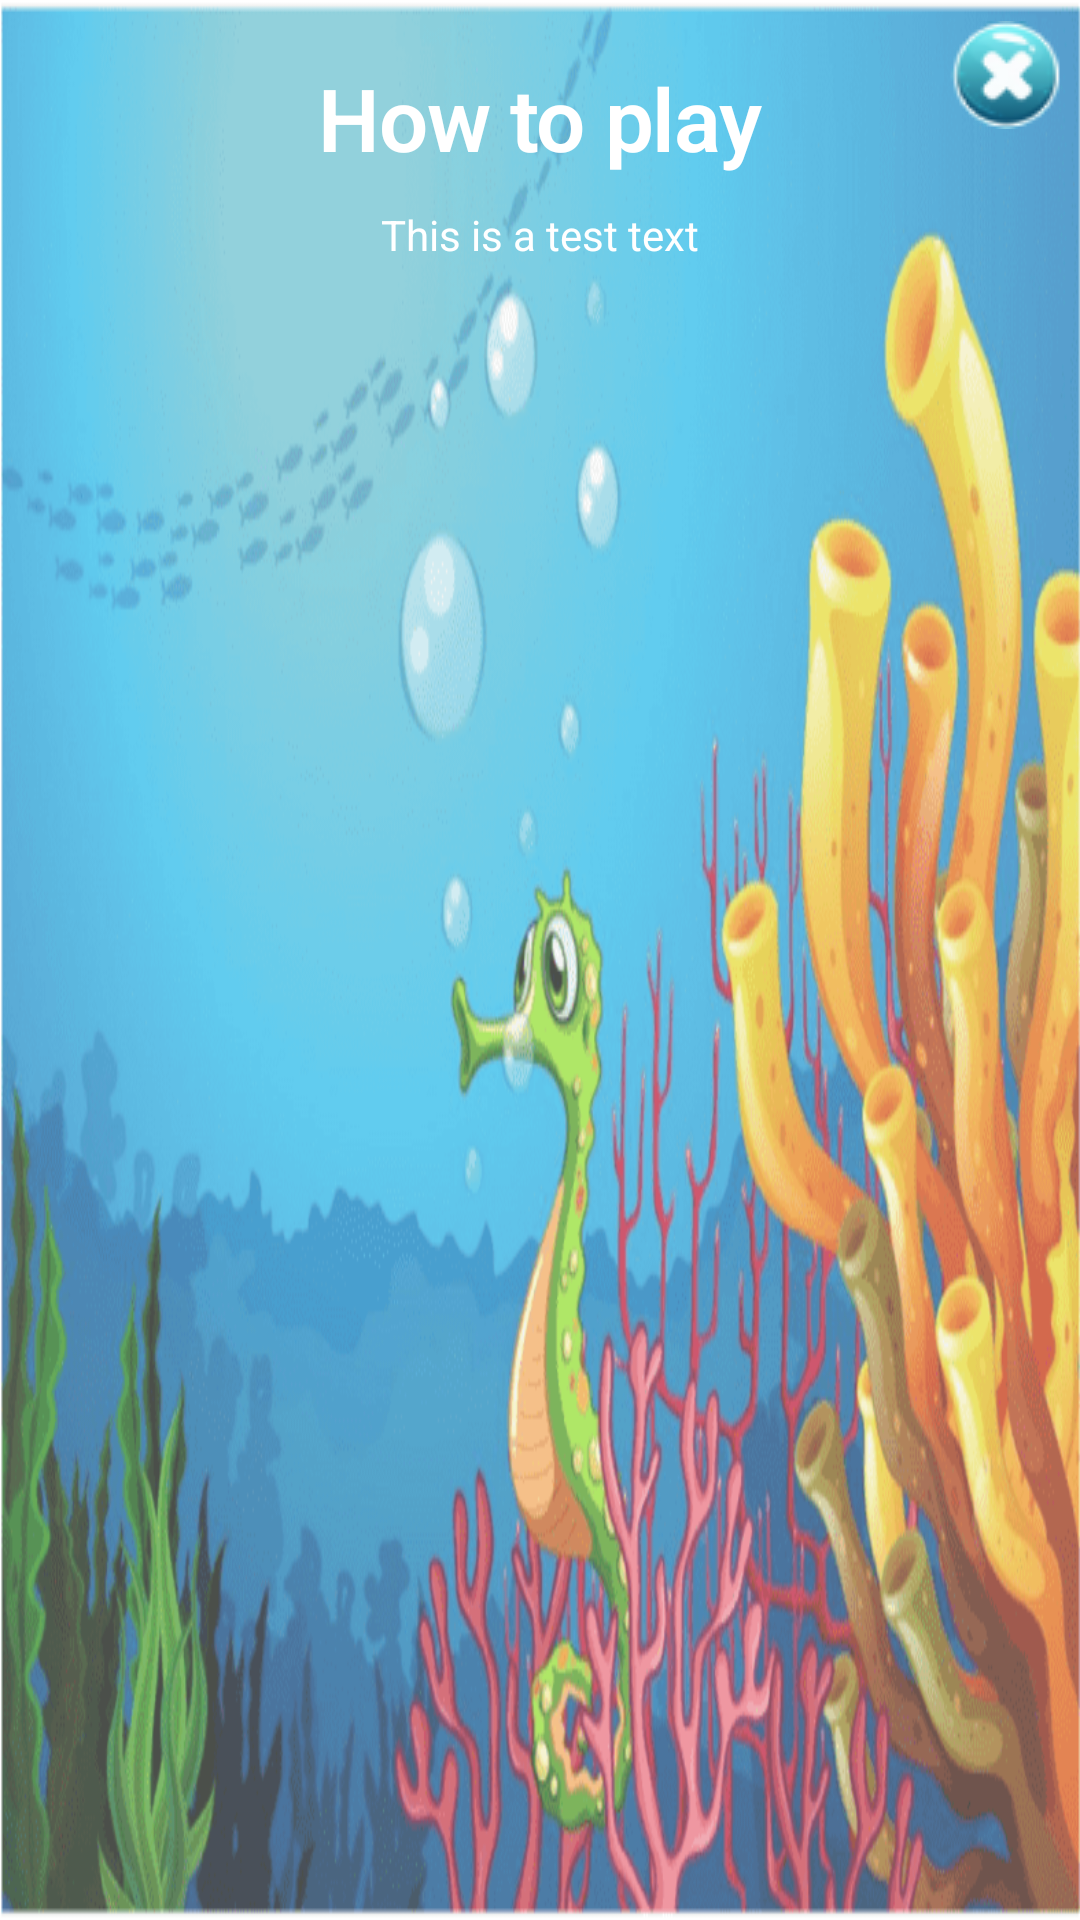

Icon bounding boxes for this 1080x1920 phone screenshot, format [x1=x1, y1=y1, x2=x2, y2=y2]:
exitbut: [x1=953, y1=21, x2=1060, y2=129]
